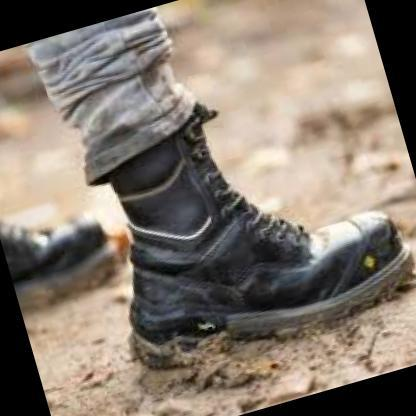safety-shoe: (77, 87, 415, 404)
